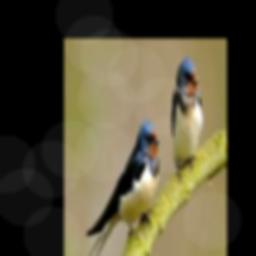Swallow: (73, 121, 161, 256), (171, 58, 203, 172)
